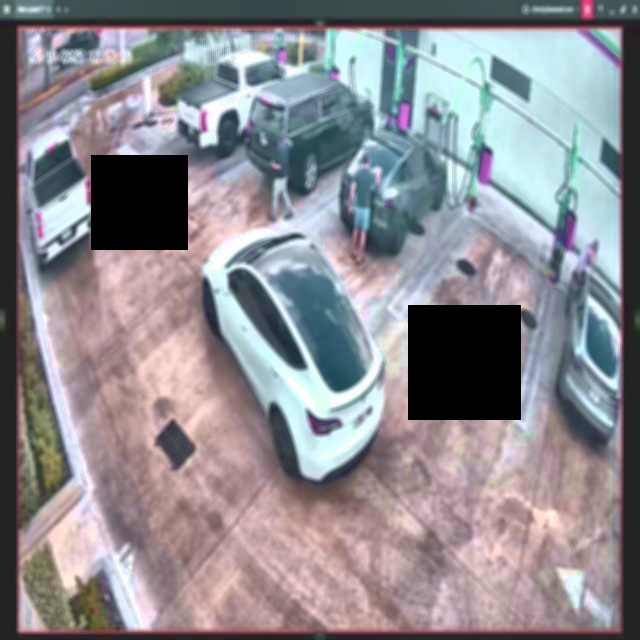Car: (202, 226, 385, 482), (248, 65, 373, 189), (341, 128, 446, 259), (178, 46, 300, 155)
